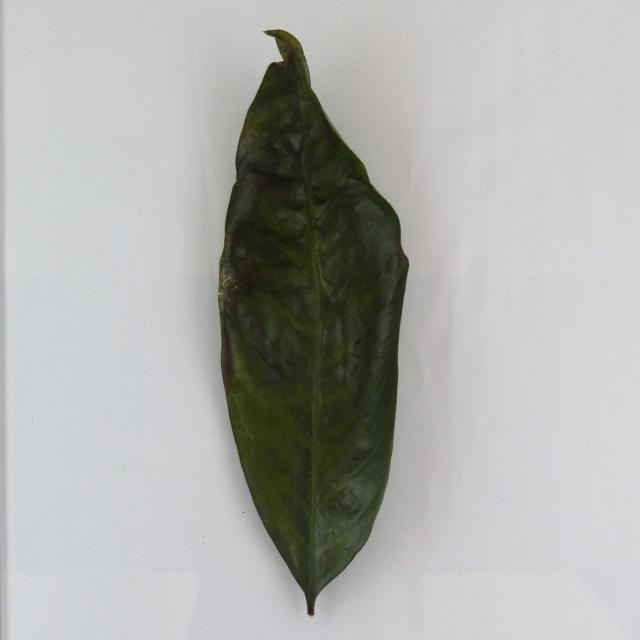DeficienciaNutricional-Potasio: (219, 30, 409, 615)
